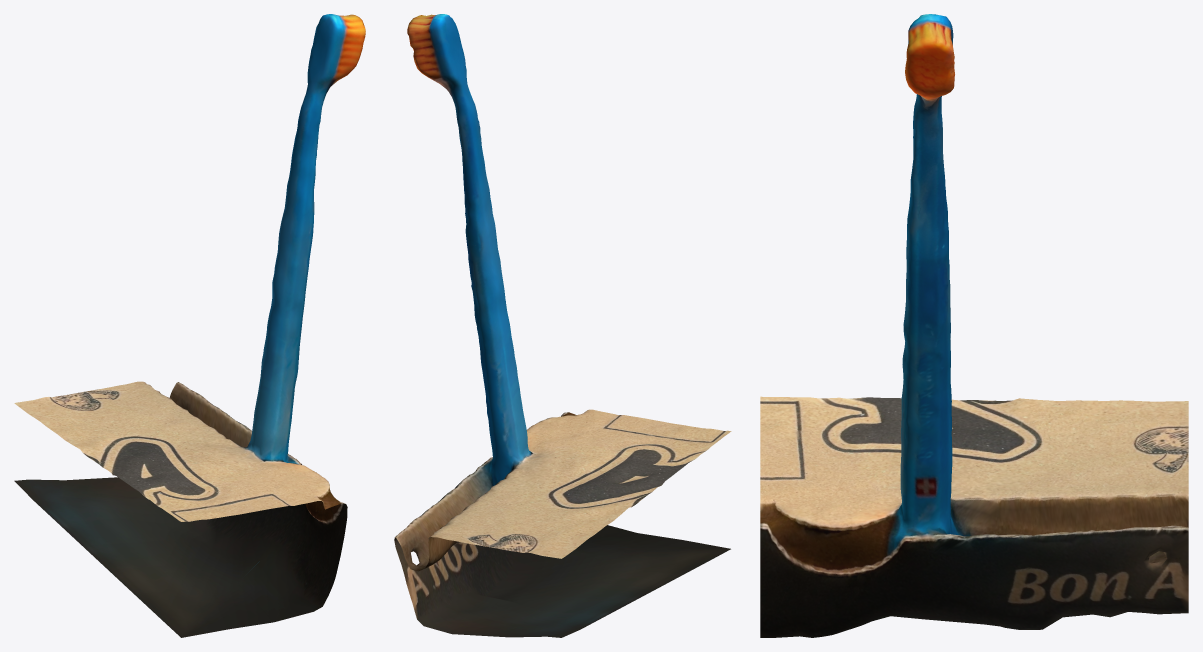
File: 3DModel.obj
The picture shows the model from 3 angles, left to right: view 1: azimuth 30°, elevation 25°; view 2: azimuth 150°, elevation 25°; view 3: azimuth 270°, elevation 25°; orthographic projection. The views are drawn at different scales.
Visible parts, largest first — view 1: 3DModel; view 2: 3DModel; view 3: 3DModel.
Part boxes in pixels (x1,y1,x2,y2): 3DModel: [14, 14, 365, 637]; 3DModel: [394, 14, 731, 637]; 3DModel: [760, 14, 1188, 637].
Size of the model in its own units: 0.0954 by 0.1958 by 0.1125.
Materials: 1 (1 with a texture image).
